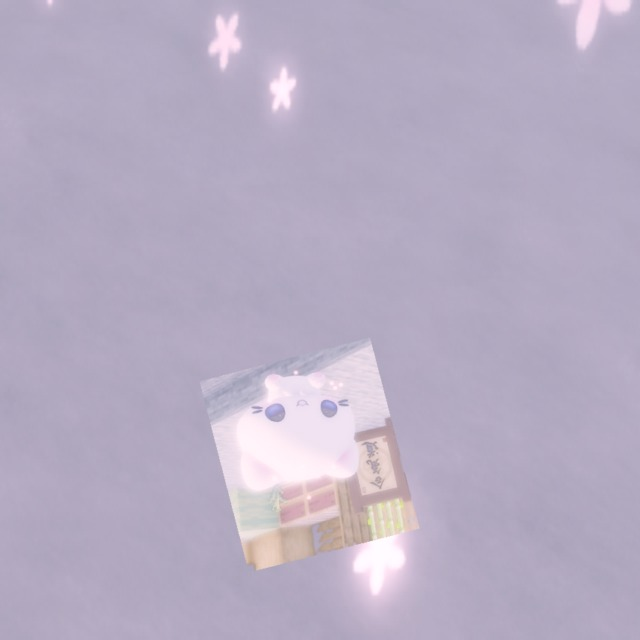urso_branco: (199, 337, 420, 573)
